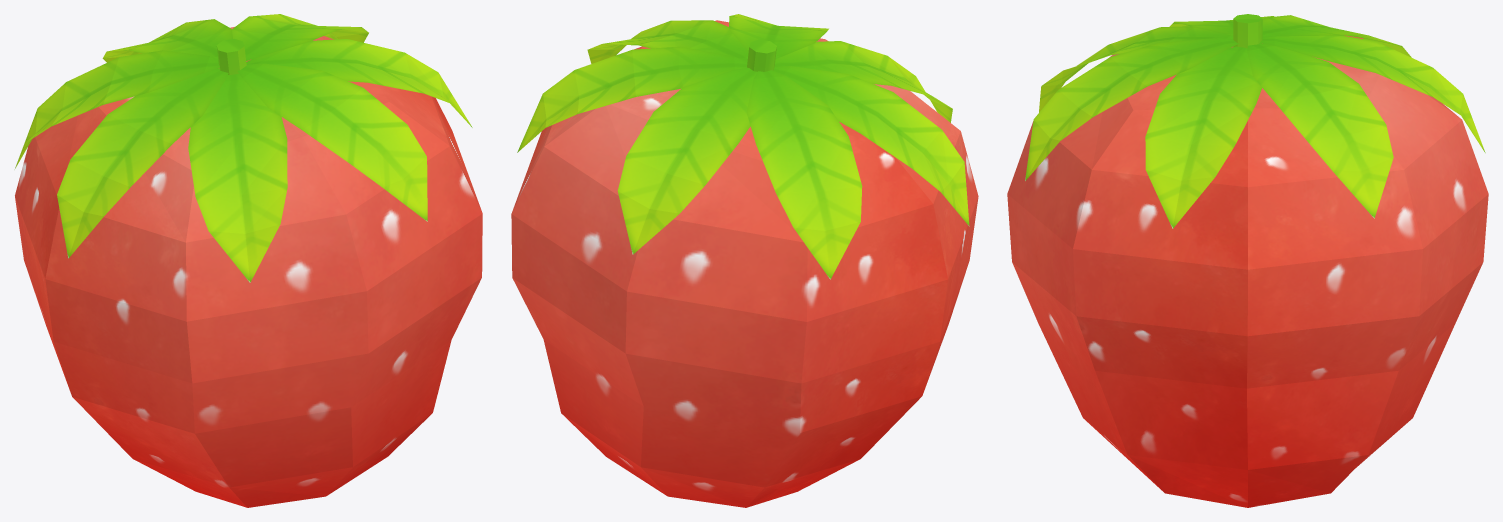
The model's file is strawberry.glb.
3 renders of one model, left to right at view 1: azimuth 30°, elevation 25°; view 2: azimuth 150°, elevation 25°; view 3: azimuth 270°, elevation 25°, orthographic.
Visible parts, largest first — view 1: Cube_Material.001_0; view 2: Cube_Material.001_0; view 3: Cube_Material.001_0.
Part boxes in pixels (bbox=[...]): Cube_Material.001_0: bbox=[14, 14, 482, 507]; Cube_Material.001_0: bbox=[511, 14, 978, 507]; Cube_Material.001_0: bbox=[1007, 14, 1488, 507].
Bounding box in the file's own units: 0.4108 × 0.4326 × 0.4135.
1 material, 1 textured.
